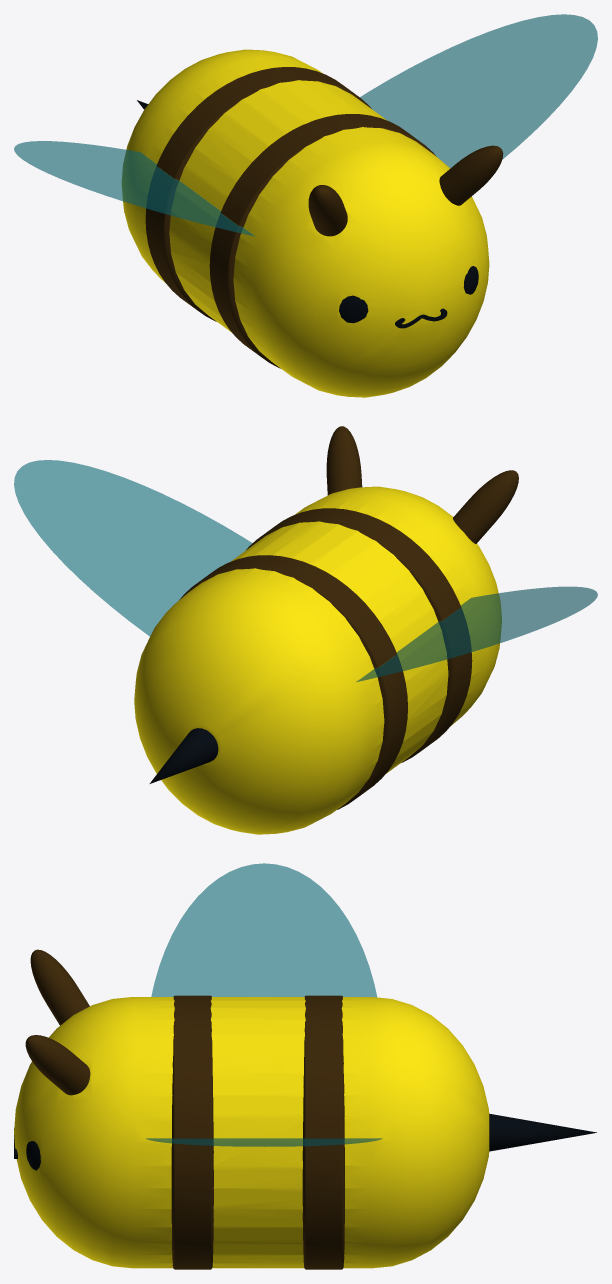
The model's file is smol_bee_3.glb.
3 renders of one model, top to bottom at view 1: azimuth 30°, elevation 25°; view 2: azimuth 150°, elevation 25°; view 3: azimuth 270°, elevation 25°, orthographic. The views are drawn at different scales.
Parts seen in each view (by area): view 1: Object_2, Object_5, Object_4, Object_3; view 2: Object_2, Object_5, Object_4, Object_3; view 3: Object_2, Object_4, Object_5, Object_3.
Boxes of the visible parts, <box> form: Object_2: <box>122,49,489,397</box>; Object_5: <box>14,14,597,236</box>; Object_4: <box>145,67,503,368</box>; Object_3: <box>137,100,478,328</box>; Object_2: <box>134,486,501,834</box>; Object_5: <box>14,460,597,681</box>; Object_4: <box>179,426,518,809</box>; Object_3: <box>149,728,218,783</box>; Object_2: <box>14,997,489,1268</box>; Object_4: <box>25,949,344,1269</box>; Object_5: <box>146,863,382,1146</box>; Object_3: <box>14,1113,596,1170</box>.
Bounding box in the file's own units: 56.26 × 24.27 × 49.
